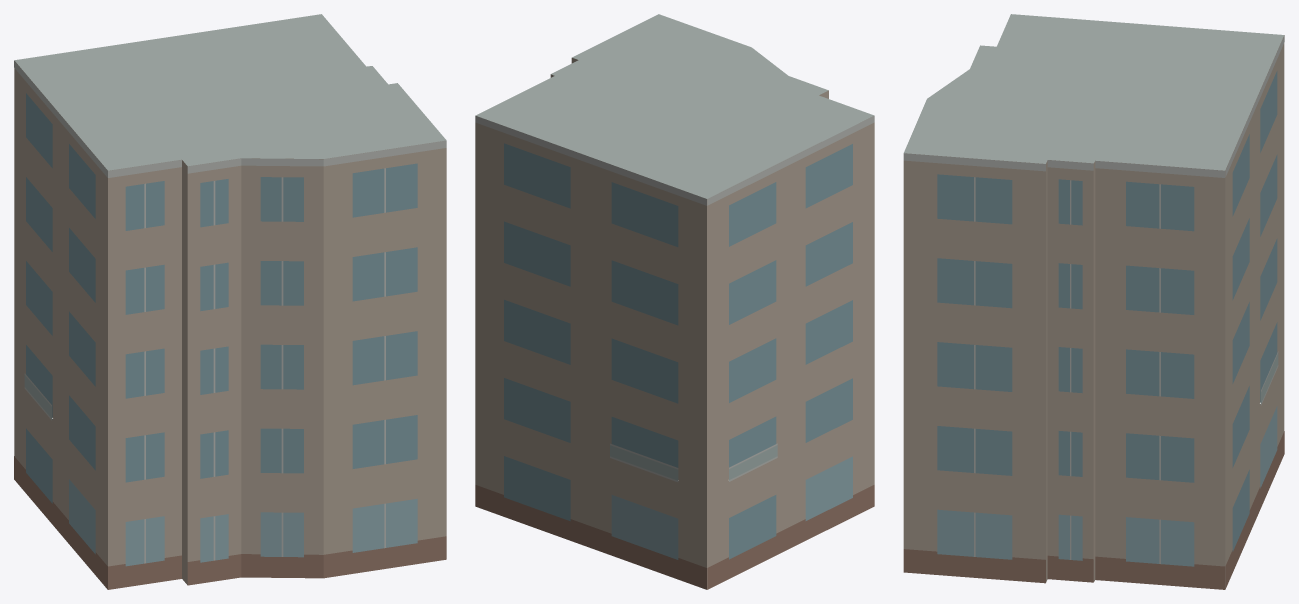
Rendered from survey-upis-32515933.glb.
3 views of the same model, side by side, from view 1: azimuth 30°, elevation 25°; view 2: azimuth 150°, elevation 25°; view 3: azimuth 270°, elevation 25° (orthographic). The views are drawn at different scales.
Parts seen in each view (by area): view 1: survey-upis-32515933.tmp; view 2: survey-upis-32515933.tmp; view 3: survey-upis-32515933.tmp.
Boxes of the visible parts, box(x1,y1,x2,y2) form: survey-upis-32515933.tmp: box(14, 14, 446, 589); survey-upis-32515933.tmp: box(475, 14, 874, 589); survey-upis-32515933.tmp: box(903, 14, 1284, 589).
Size of the model in its own units: 11.07 by 13.8 by 11.37.
